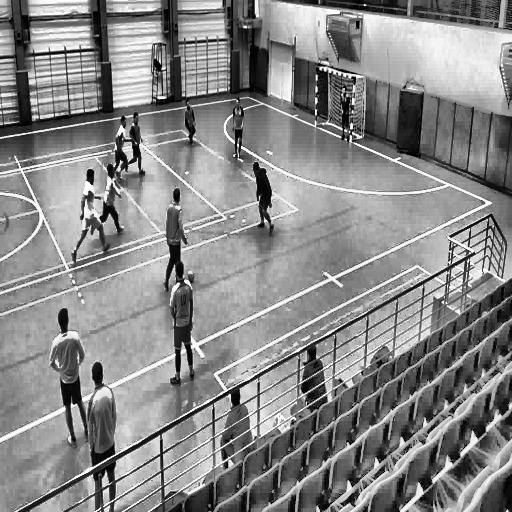ball: (186, 270, 195, 284)
player: (50, 308, 90, 450), (87, 360, 117, 511), (168, 262, 199, 387), (72, 167, 110, 265), (218, 388, 256, 463), (91, 165, 126, 236), (163, 186, 184, 292), (299, 338, 327, 409), (251, 160, 275, 239), (124, 109, 146, 178), (112, 113, 132, 181), (232, 97, 246, 161), (339, 87, 352, 146), (183, 96, 197, 150)
